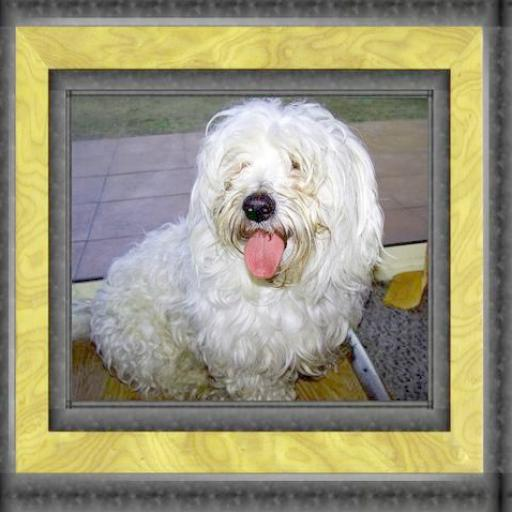dog_face: (193, 97, 366, 290)
